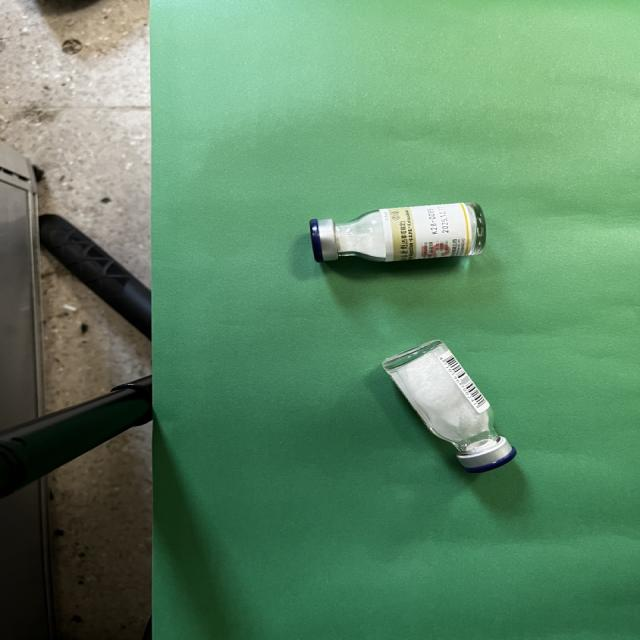Vials: (383, 340, 516, 472), (309, 202, 485, 262)
